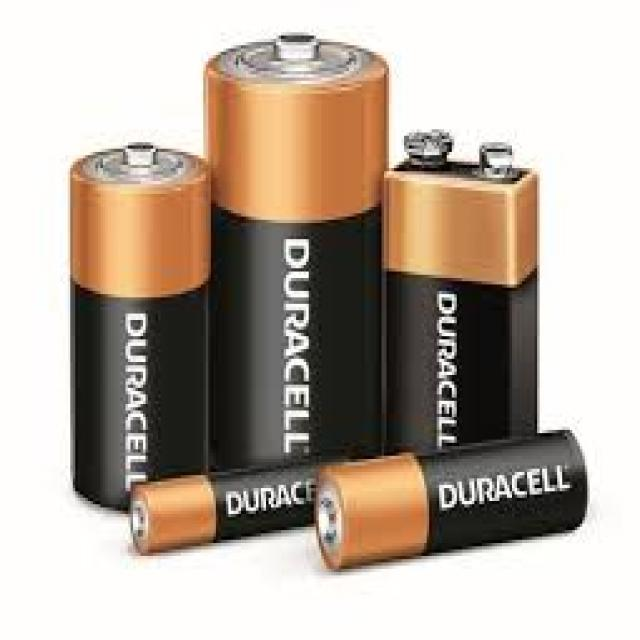non-organic waste: (204, 30, 388, 467), (68, 131, 203, 515), (387, 125, 541, 441), (318, 426, 586, 571), (131, 456, 357, 554)
